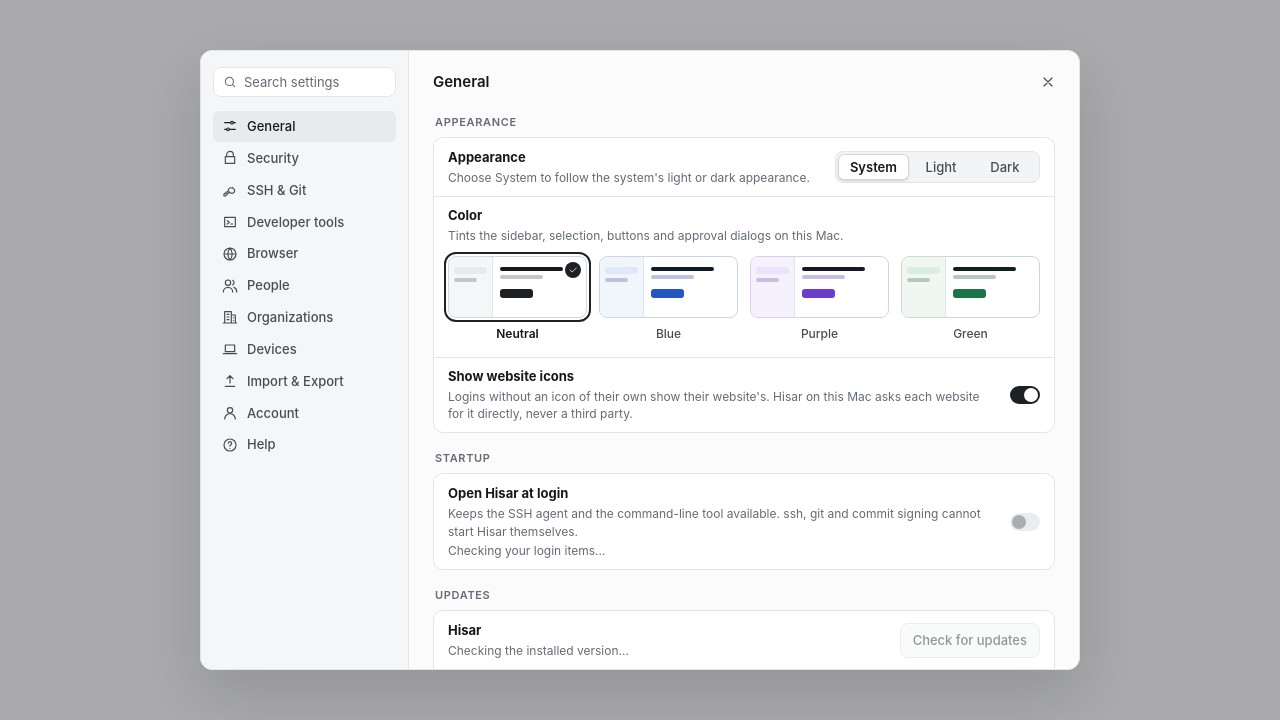
AppearanceSection › is found by searching for a colour or for dark mode
In the search field with test id "settings-search" showing "Search settings": point(315, 82) [244,73,386,91], type "purple"
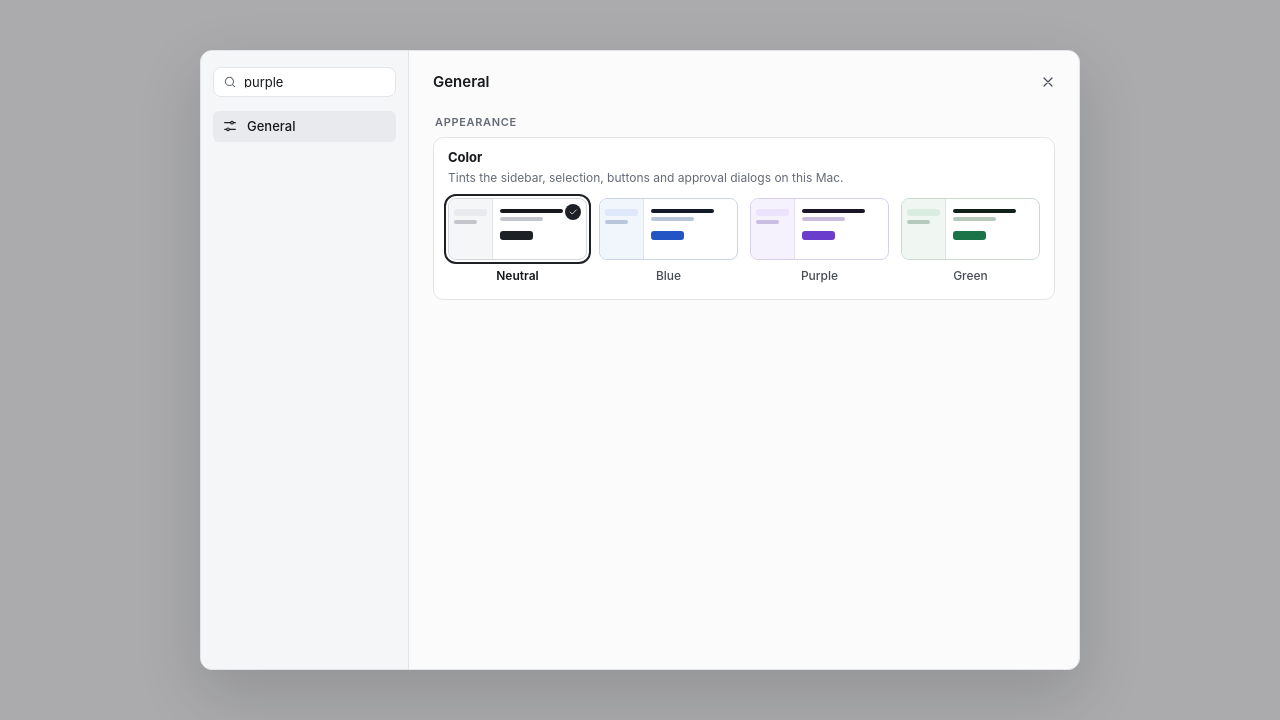
Expected: the element with test id "appearance-section" is shown, [433,115,1055,300]
Expected: the radio button with test id "appearance-dark" is gone
Replace the text in the 2nd search field with test id "settings-search" with "dark mode": point(315, 82) [244,73,386,91]
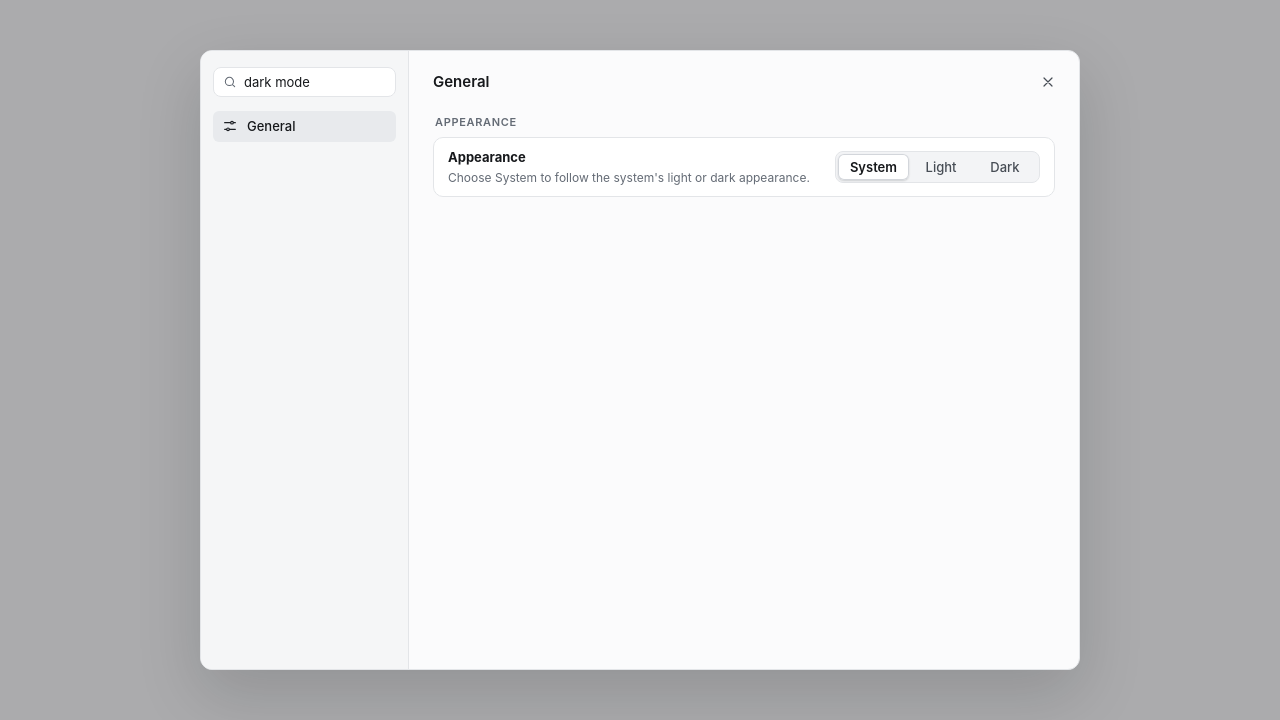
Expected: the radio button with test id "appearance-dark" is shown, [973,154,1037,180]
